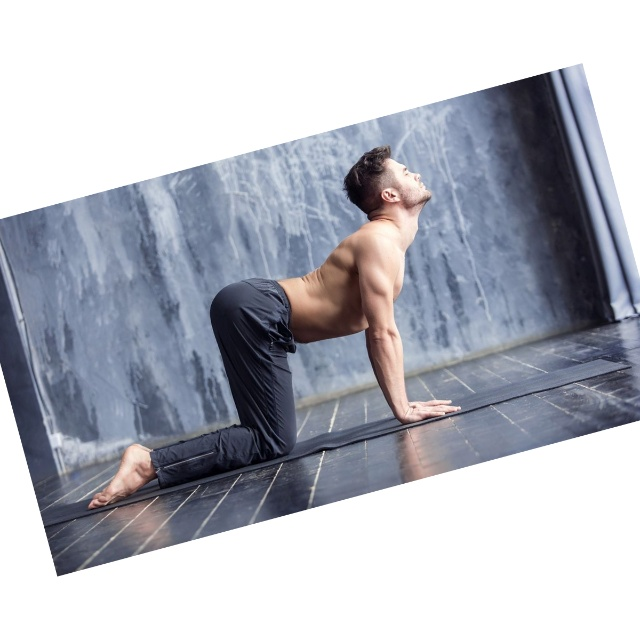Cow_Pose: (89, 147, 460, 510)
